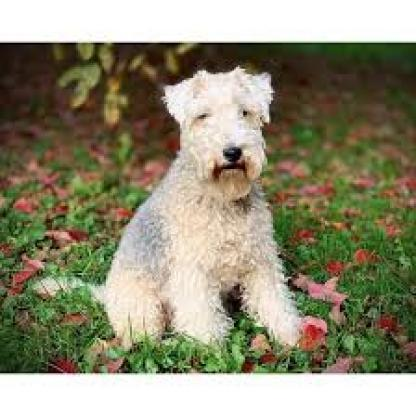Lakeland Terrier: (62, 46, 321, 376)
